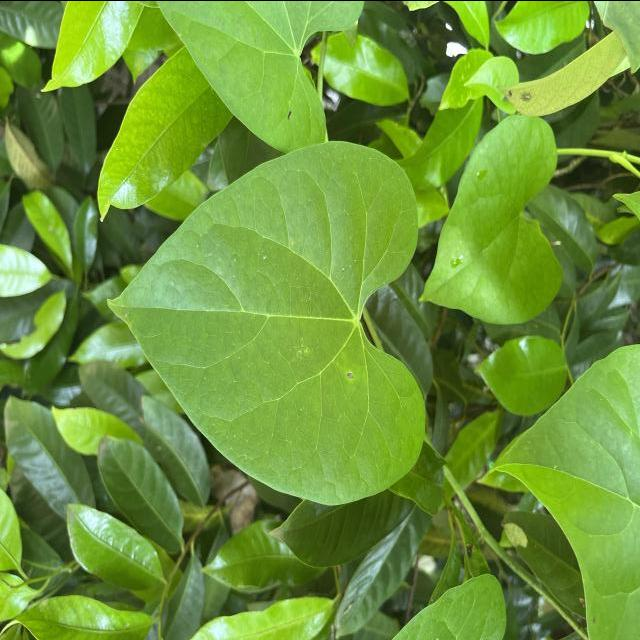Tinospora cordifolia: (101, 134, 432, 510)
